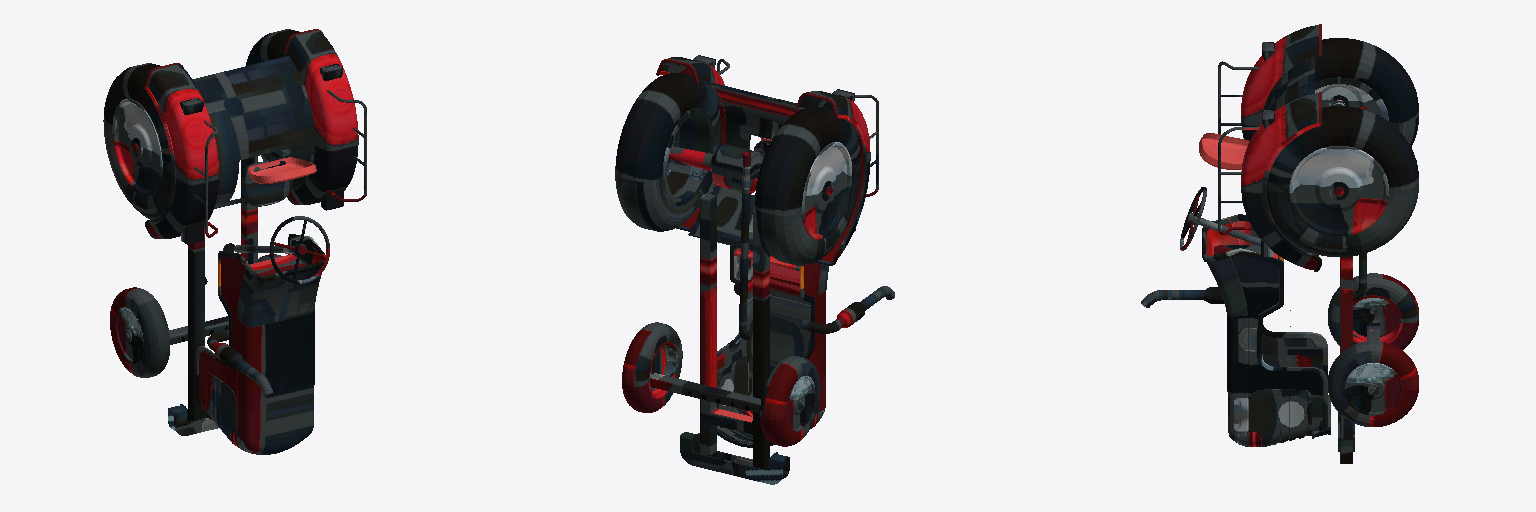
3 renders of one model, left to right at view 1: azimuth 30°, elevation 25°; view 2: azimuth 150°, elevation 25°; view 3: azimuth 270°, elevation 25°, orthographic.
Parts seen in each view (by area): view 1: node_id69; view 2: node_id69; view 3: node_id69.
Part boxes in pixels (left/top/right/bottom): node_id69: left=103, top=29, right=366, bottom=454; node_id69: left=615, top=55, right=894, bottom=484; node_id69: left=1141, top=24, right=1418, bottom=463.
Bounding box in the file's own units: 0.3908 × 0.7806 × 0.512.
Materials: 1 (1 with a texture image).